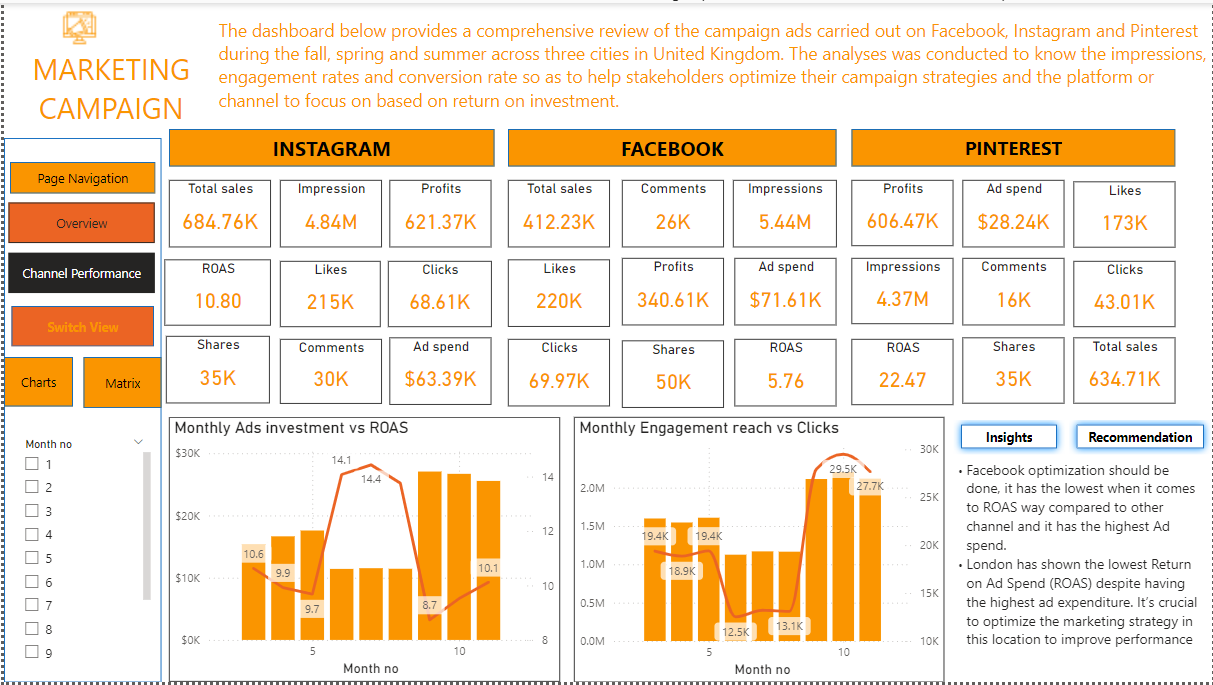

What the dashboard file says about the page in this screenshot:
{"tool":"powerbi","page":{"name":"Channel Performance","canvas":[1280,720],"ordinal":1},"visuals":[{"type":"shape","box":[0,143.2,167,577.4],"z":0},{"type":"shape","box":[175.6,133.6,345.2,39.8],"z":1000},{"type":"shape","box":[535.1,133.6,348.3,39.8],"z":2000},{"type":"shape","box":[899.3,133.6,343.6,39.8],"z":3000},{"type":"card","title":"Total sales","fields":{"Values":["data.IG Total sales"]},"box":[175.6,187.7,108.2,71.6],"z":4000},{"type":"card","title":"Ad spend","fields":{"Values":["data.IG AD SPEND"]},"box":[409.4,354.7,108.2,71.6],"z":5000},{"type":"card","title":"Clicks","fields":{"Values":["data.IG Total click"]},"box":[407.8,273.6,109.8,70],"z":6000},{"type":"card","title":"Profits","fields":{"Values":["data.IG profit"]},"box":[409.4,187.7,108.2,71.6],"z":7000},{"type":"card","title":"Impression","fields":{"Values":["data.IG Impression"]},"box":[293.3,187.7,108.2,71.6],"z":8000},{"type":"card","title":"Shares","fields":{"Values":["data.Ig shares"]},"box":[172.4,353.1,109.8,71.6],"z":9000},{"type":"card","title":"ROAS","fields":{"Values":["data.IG ROAS"]},"box":[170.8,272,112.9,70],"z":10000},{"type":"card","title":"Comments","fields":{"Values":["data.iG comments"]},"box":[293.3,356.3,108.2,68.4],"z":11000},{"type":"card","title":"Likes","fields":{"Values":["data.iG Likes"]},"box":[293.3,273.6,106.6,70],"z":12000},{"type":"card","title":"Total sales","fields":{"Values":["data.FB tOtal sales"]},"box":[535.1,187.7,108.2,71.6],"z":13000},{"type":"card","title":"Comments","fields":{"Values":["data.FB comments"]},"box":[655.9,187.7,108.2,71.6],"z":14000},{"type":"card","title":"Impressions","fields":{"Values":["data.FB impression"]},"box":[773.6,187.7,109.8,71.6],"z":15000},{"type":"card","title":"Likes","fields":{"Values":["data.FB Likes"]},"box":[535.1,272,108.2,71.6],"z":16000},{"type":"card","title":"ROAS","fields":{"Values":["data.FB ROAS"]},"box":[775.2,356.3,108.2,71.6],"z":17000},{"type":"card","title":"Shares","fields":{"Values":["data.FB shares"]},"box":[655.9,357.9,108.2,71.6],"z":18000},{"type":"card","title":"Ad spend","fields":{"Values":["data.FB AD spend"]},"box":[775.2,270.4,108.2,71.6],"z":19000},{"type":"card","title":"Profits","fields":{"Values":["data.FB profit"]},"box":[655.9,270.4,108.2,71.6],"z":20000},{"type":"card","title":"Clicks","fields":{"Values":["data.FB clicks"]},"box":[535.1,356.3,108.2,71.6],"z":21000},{"type":"card","title":"Ad spend","fields":{"Values":["data.PT adspend"]},"box":[1017,187.7,108.2,71.6],"z":22000},{"type":"card","title":"Clicks","fields":{"Values":["data.PT clicks"]},"box":[1134.7,273.6,108.2,70],"z":23000},{"type":"card","title":"Comments","fields":{"Values":["data.PT comments"]},"box":[1017,270.4,108.2,71.6],"z":24000},{"type":"card","title":"Impressions","fields":{"Values":["data.PT impression"]},"box":[899.3,270.4,108.2,70],"z":25000},{"type":"card","title":"Likes","fields":{"Values":["data.PT likes"]},"box":[1134.7,189.3,108.2,70],"z":26000},{"type":"card","title":"Profits","fields":{"Values":["data.PT profit"]},"box":[899.3,187.7,108.2,70],"z":27000},{"type":"card","title":"ROAS","fields":{"Values":["data.PT ROAS"]},"box":[899.3,356.3,108.2,70],"z":28000},{"type":"card","title":"Shares","fields":{"Values":["data.PT shares"]},"box":[1017,354.7,108.2,70],"z":29000},{"type":"card","title":"Total sales","fields":{"Values":["data.PT totalsales"]},"box":[1134.7,354.7,108.2,70],"z":30000},{"type":"shape","box":[0,375.4,73.2,52.5],"z":33000},{"type":"shape","box":[84.3,375.4,82.7,54.1],"z":34000},{"type":"shape","box":[8,321.3,151.1,42.9],"z":35000},{"type":"slicer","fields":{"Values":["DATES.Month no"]},"box":[9.5,454.9,151.1,243.4],"z":36000},{"type":"pageNavigator","box":[4.8,211.6,155.9,97],"z":37000},{"type":"shape","box":[6.4,168.6,154.3,33.4],"z":38000},{"type":"shape","box":[227.5,0,1053,130.4],"z":39000},{"type":"shape","box":[0,0,227.5,130.4],"z":40000},{"type":"image","box":[31.8,0,97,52.5],"z":41000},{"type":"shape","box":[1006.9,439,117.7,41.4],"z":42000},{"type":"shape","box":[1129.3,439,151.1,41.4],"z":43000},{"type":"textbox","box":[1006.9,480.4,273.6,224.3],"z":44000},{"type":"textbox","box":[997.6,479.5,281.2,225.3],"z":46000},{"type":"lineStackedColumnComboChart","title":"Monthly Ads investment vs ROAS","fields":{"Y":["data.AD spend"],"Category":["DATES.Month no"],"Y2":["data.ROAS"]},"box":[174.7,438.9,414.5,280.4],"z":46001},{"type":"lineStackedColumnComboChart","title":"Monthly Engagement reach vs Clicks","fields":{"Y":["data.total impressions"],"Category":["DATES.Month no"],"Y2":["data.Total Clicks"]},"box":[604.4,439,392.9,281.5],"z":46002}]}

Visuals, with their boxes in screenshot pixels (x1, y1, x2, y2), scaled from the page's 1280x720 canvas onto the 1213x685 screenshot:
shape: region(0, 136, 158, 684)
shape: region(166, 127, 494, 165)
shape: region(507, 127, 837, 165)
shape: region(852, 127, 1178, 165)
"Total sales" card: region(166, 179, 269, 247)
"Ad spend" card: region(388, 337, 491, 406)
"Clicks" card: region(386, 260, 491, 327)
"Profits" card: region(388, 179, 491, 247)
"Impression" card: region(278, 179, 380, 247)
"Shares" card: region(163, 336, 267, 404)
"ROAS" card: region(162, 259, 269, 325)
"Comments" card: region(278, 339, 380, 404)
"Likes" card: region(278, 260, 379, 327)
"Total sales" card: region(507, 179, 610, 247)
"Comments" card: region(622, 179, 724, 247)
"Impressions" card: region(733, 179, 837, 247)
"Likes" card: region(507, 259, 610, 327)
"ROAS" card: region(735, 339, 837, 407)
"Shares" card: region(622, 341, 724, 409)
"Ad spend" card: region(735, 257, 837, 325)
"Profits" card: region(622, 257, 724, 325)
"Clicks" card: region(507, 339, 610, 407)
"Ad spend" card: region(964, 179, 1066, 247)
"Clicks" card: region(1075, 260, 1178, 327)
"Comments" card: region(964, 257, 1066, 325)
"Impressions" card: region(852, 257, 955, 324)
"Likes" card: region(1075, 180, 1178, 247)
"Profits" card: region(852, 179, 955, 245)
"ROAS" card: region(852, 339, 955, 406)
"Shares" card: region(964, 337, 1066, 404)
"Total sales" card: region(1075, 337, 1178, 404)
shape: region(0, 357, 69, 407)
shape: region(80, 357, 158, 409)
shape: region(8, 306, 151, 346)
slicer - DATES.Month no: region(9, 433, 152, 664)
pageNavigator: region(5, 201, 152, 294)
shape: region(6, 160, 152, 192)
shape: region(216, 0, 1212, 124)
shape: region(0, 0, 216, 124)
image: region(30, 0, 122, 50)
shape: region(954, 418, 1066, 457)
shape: region(1070, 418, 1212, 457)
textbox: region(954, 457, 1212, 670)
textbox: region(945, 456, 1212, 671)
"Monthly Ads investment vs ROAS" lineStackedColumnComboChart: region(166, 418, 558, 684)
"Monthly Engagement reach vs Clicks" lineStackedColumnComboChart: region(573, 418, 945, 684)
